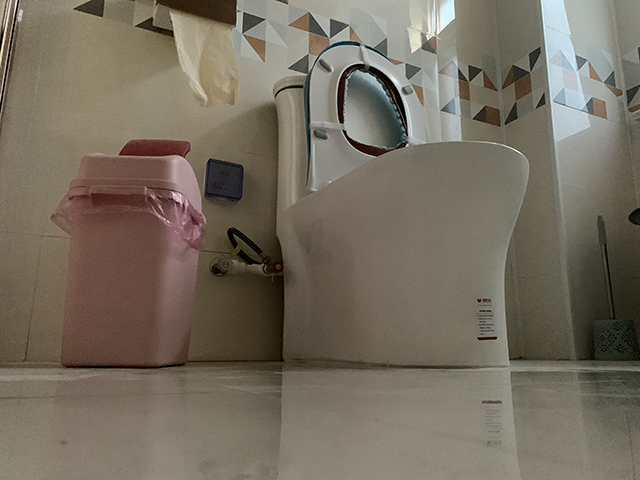closestool: (271, 39, 530, 368)
trashcan: (58, 138, 208, 367)
